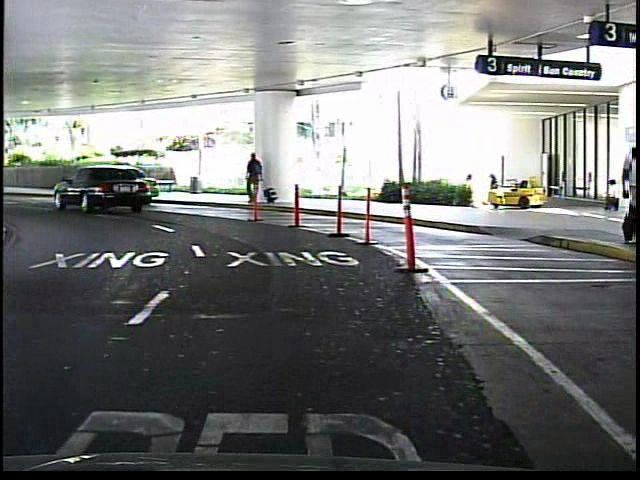person: (243, 151, 269, 210), (595, 173, 621, 213)
